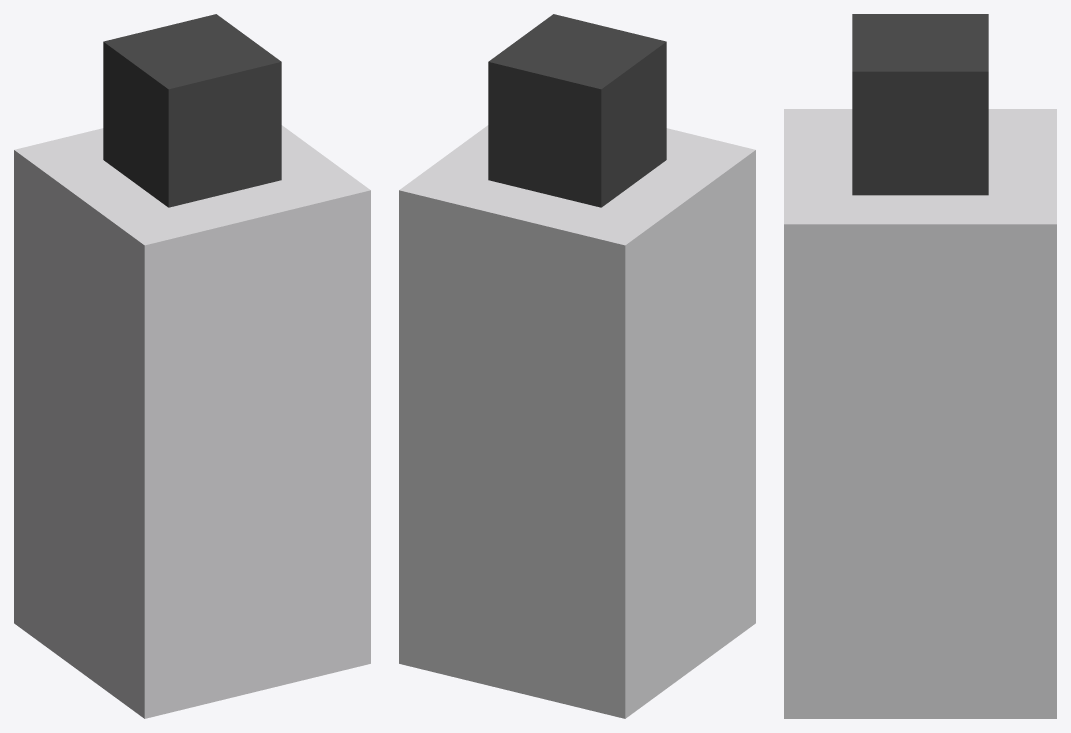
File: Medieval Assets-244-Decoration - Candle - Variant2.obj
3 renders of one model, left to right at view 1: azimuth 30°, elevation 25°; view 2: azimuth 150°, elevation 25°; view 3: azimuth 270°, elevation 25°, orthographic. The views are drawn at different scales.
Visible parts, largest first — view 1: Decoration - Candle - Variant2; view 2: Decoration - Candle - Variant2; view 3: Decoration - Candle - Variant2.
Boxes of the visible parts, x1=… form: Decoration - Candle - Variant2: x1=14, y1=14, x2=370, y2=718; Decoration - Candle - Variant2: x1=399, y1=14, x2=755, y2=718; Decoration - Candle - Variant2: x1=784, y1=14, x2=1056, y2=718.
Bounding box in the file's own units: 0.4 × 1 × 0.4.
1 material, 1 textured.
